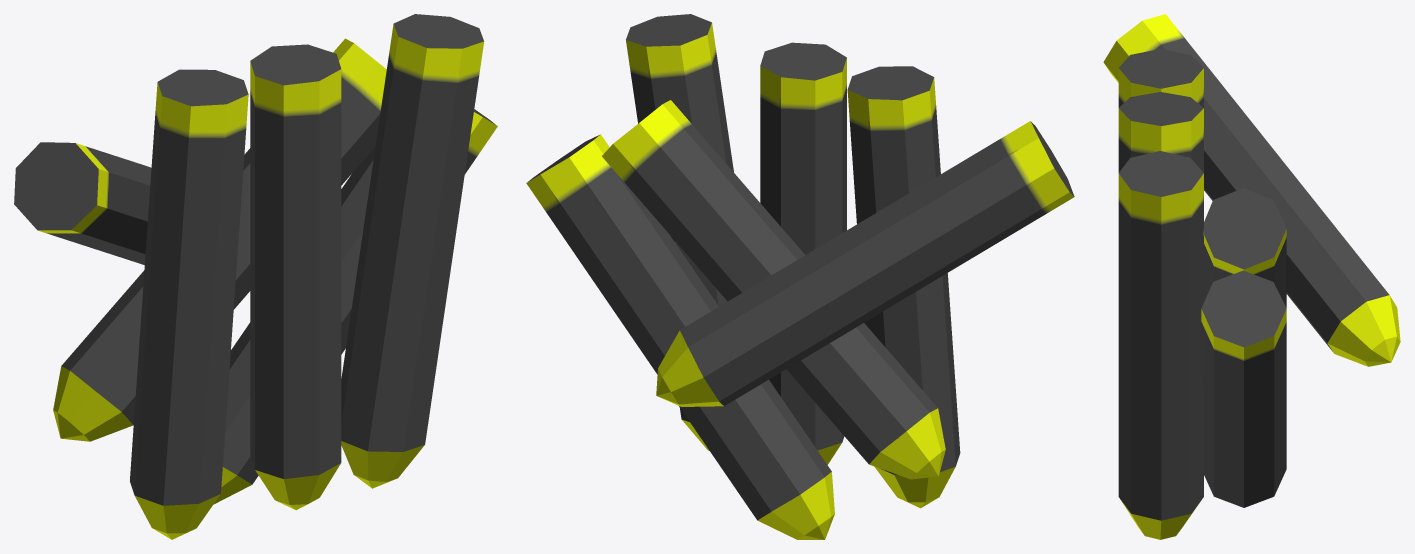
Rendered from bullets.fbx.
3 views of the same model, side by side, from view 1: azimuth 30°, elevation 25°; view 2: azimuth 150°, elevation 25°; view 3: azimuth 270°, elevation 25° (orthographic). The views are drawn at different scales.
Parts seen in each view (by area): view 1: Cylinder.005; view 2: Cylinder.005; view 3: Cylinder.005.
Part boxes in pixels (x1,y1,x2,y2): Cylinder.005: (14, 14, 497, 539); Cylinder.005: (526, 14, 1074, 539); Cylinder.005: (1103, 14, 1400, 539).
Size of the model in its own units: 12.73 by 10.79 by 6.97.
Materials: 1 (1 with a texture image).
